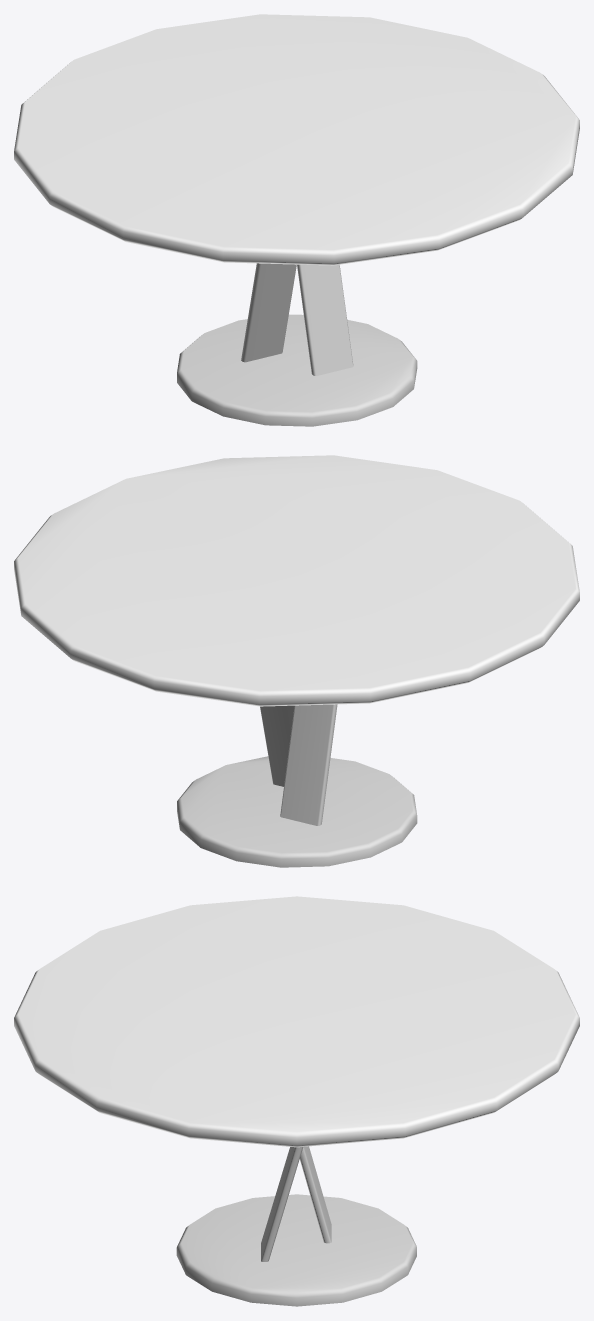
Rendered from kitchen_table_001.fbx.
The picture shows the model from 3 angles, top to bottom: view 1: azimuth 30°, elevation 25°; view 2: azimuth 150°, elevation 25°; view 3: azimuth 270°, elevation 25°; orthographic projection.
Parts seen in each view (by area): view 1: kitchen_table_001; view 2: kitchen_table_001; view 3: kitchen_table_001.
Boxes of the visible parts, x1,y1,x2,y2 form: kitchen_table_001: (14, 14, 579, 426); kitchen_table_001: (14, 455, 579, 867); kitchen_table_001: (14, 896, 579, 1306).
Size of the model in its own units: 199 by 199 by 93.86.
